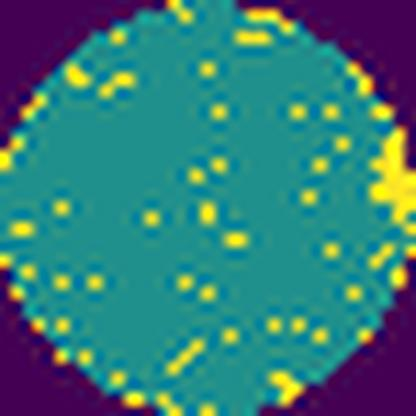Edge-Loc: (369, 128, 416, 228)
